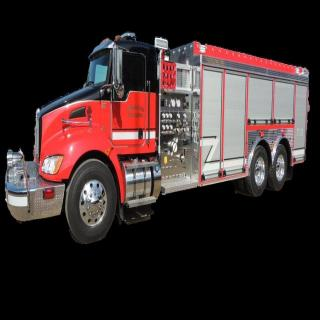Fire_truck: (4, 31, 310, 244)
